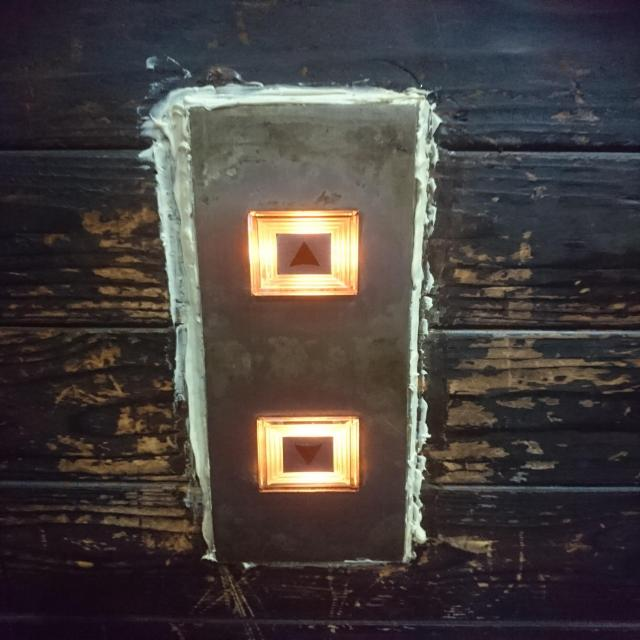down: (251, 411, 363, 495)
up: (244, 208, 363, 296)
